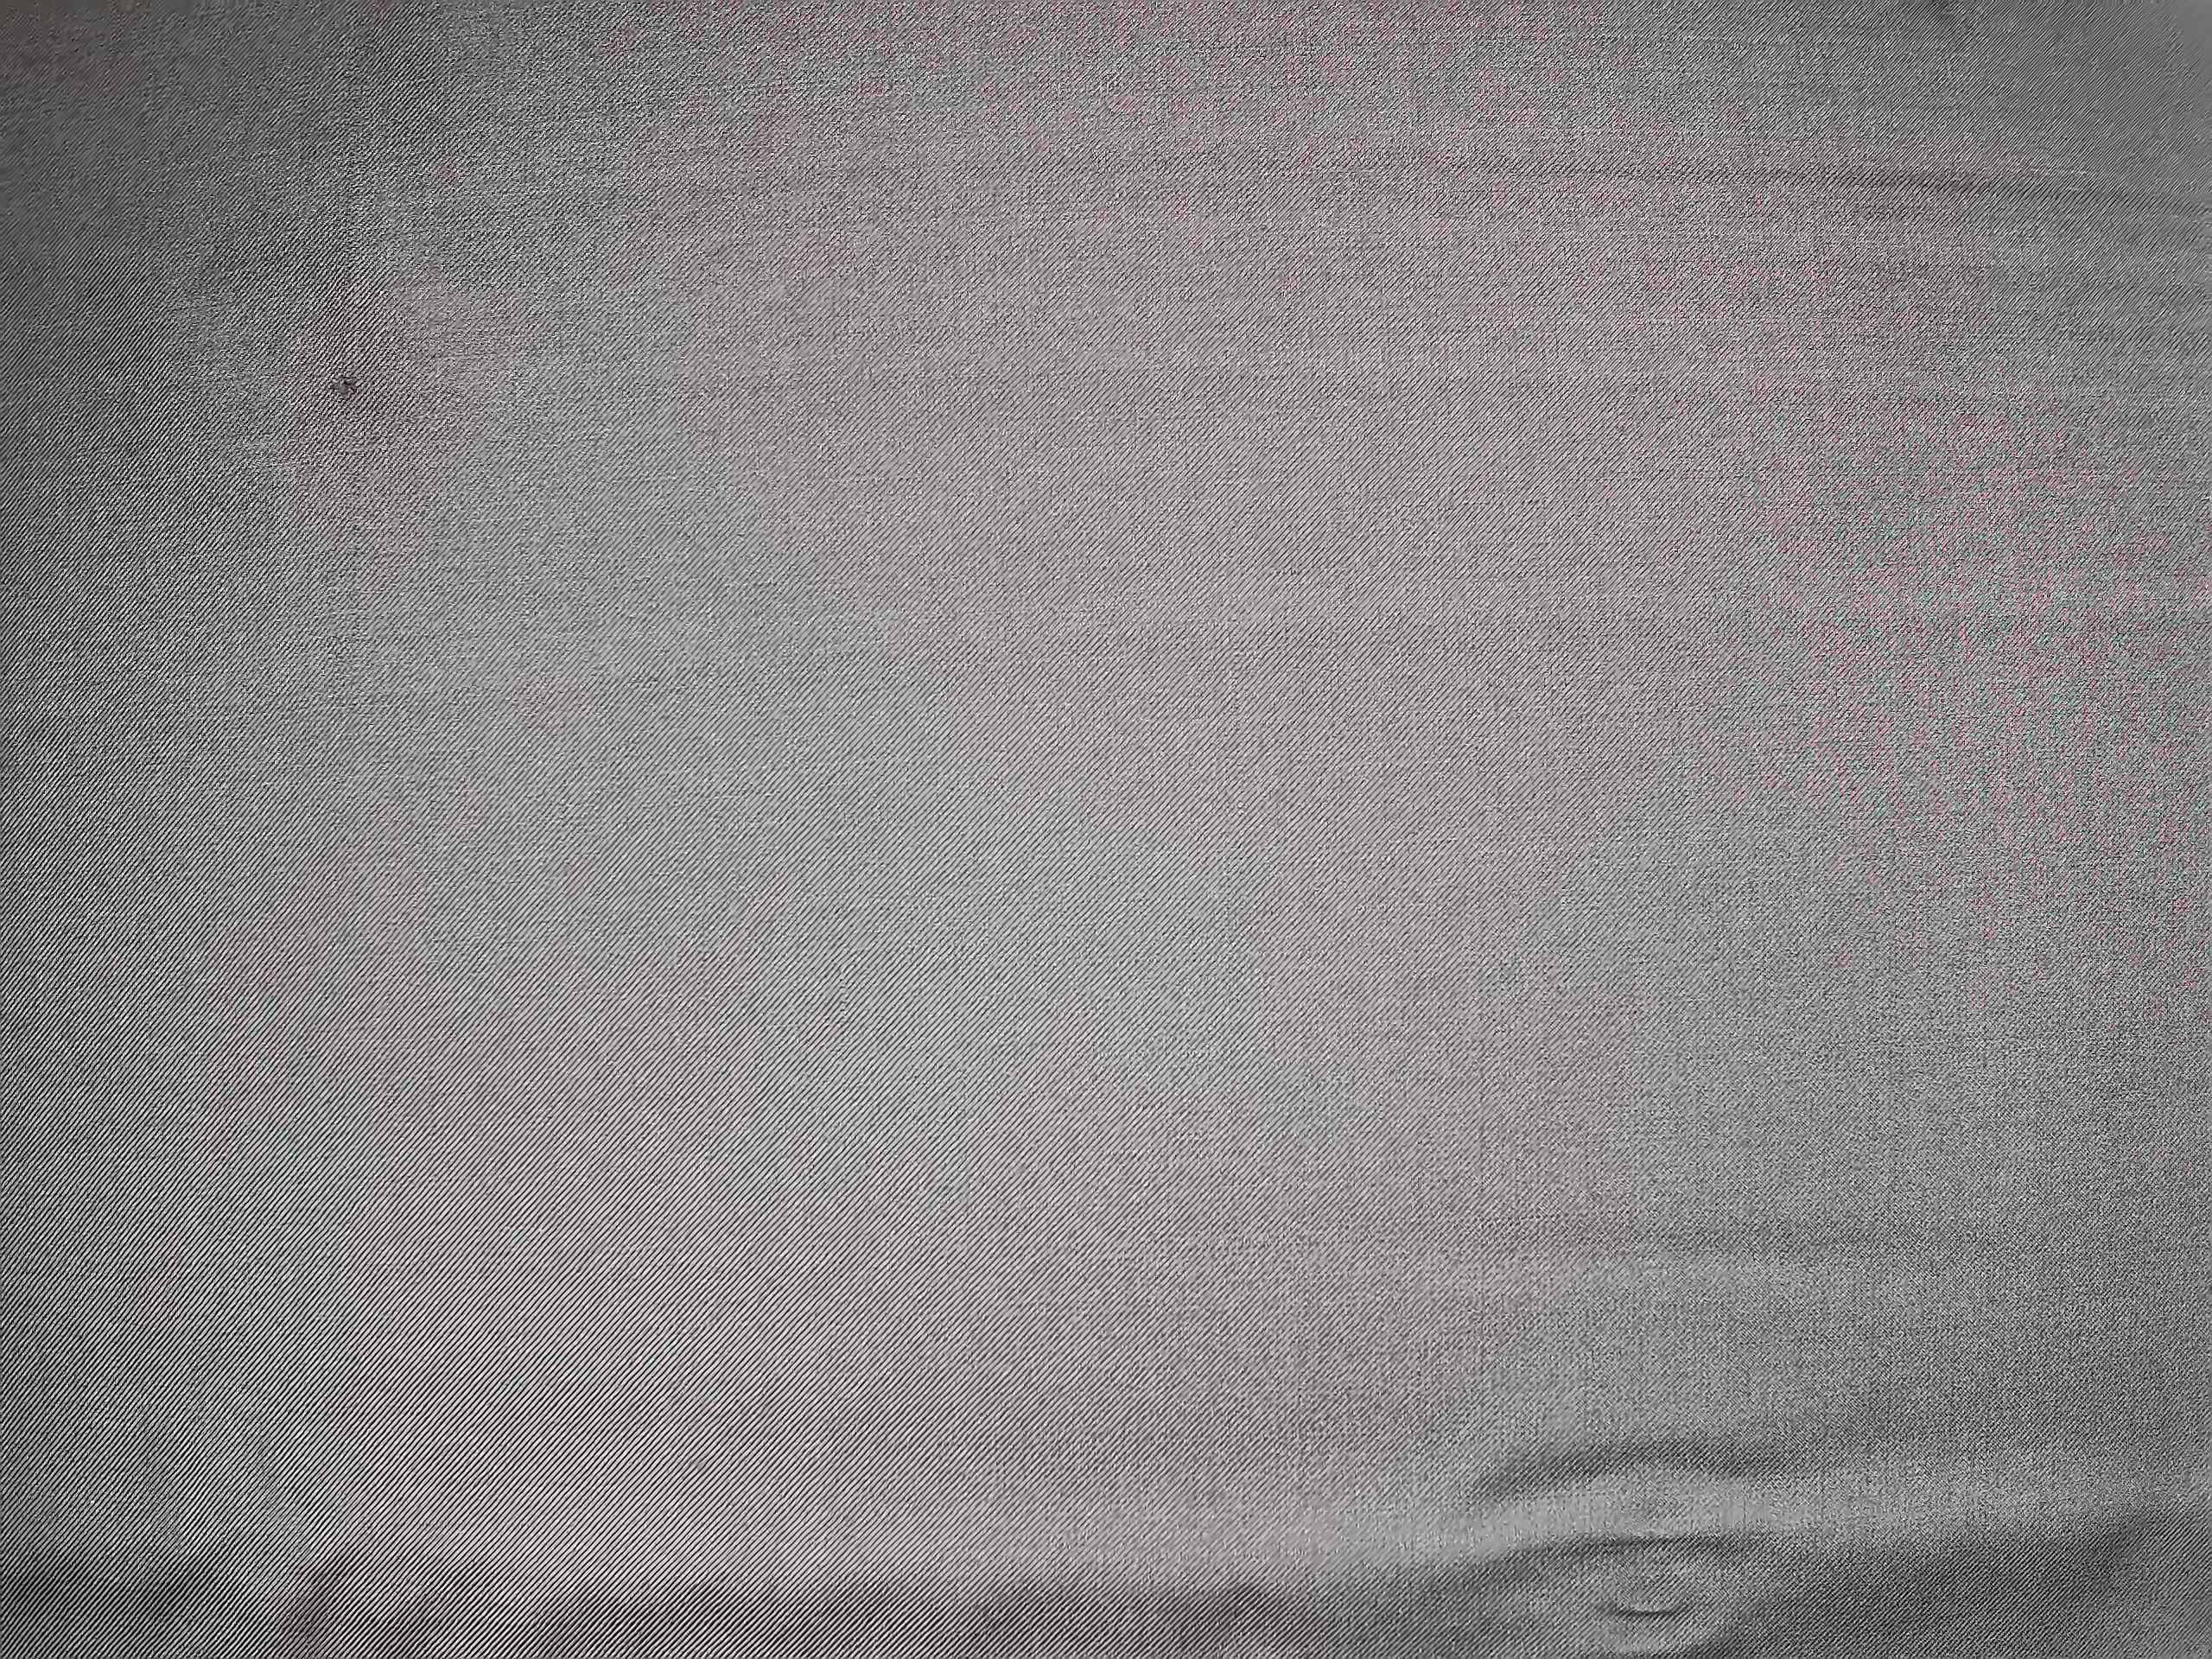hanging-warp: (319, 35, 368, 669)
